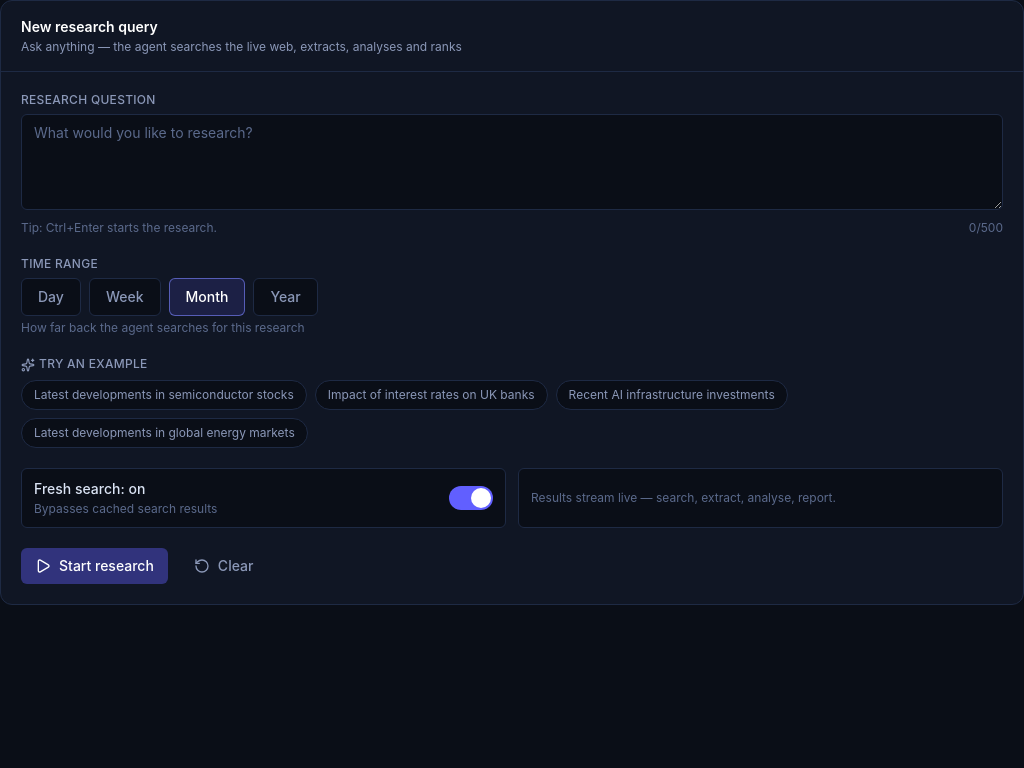
Test case: QueryResearchForm › prevents duplicate submissions while starting
Type "query one" into the text box with placeholder "What would you like to research?" at x=512, y=162, box [21,114,1003,210]
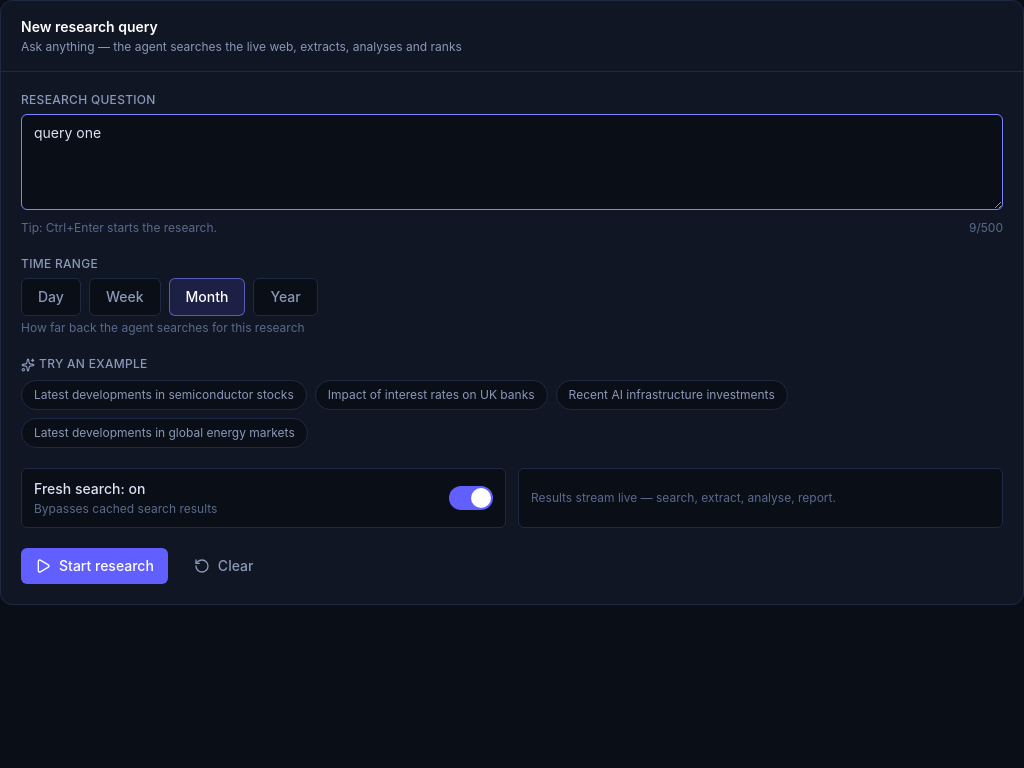
Click the button "Start research" at x=94, y=566, box [21,548,168,584]
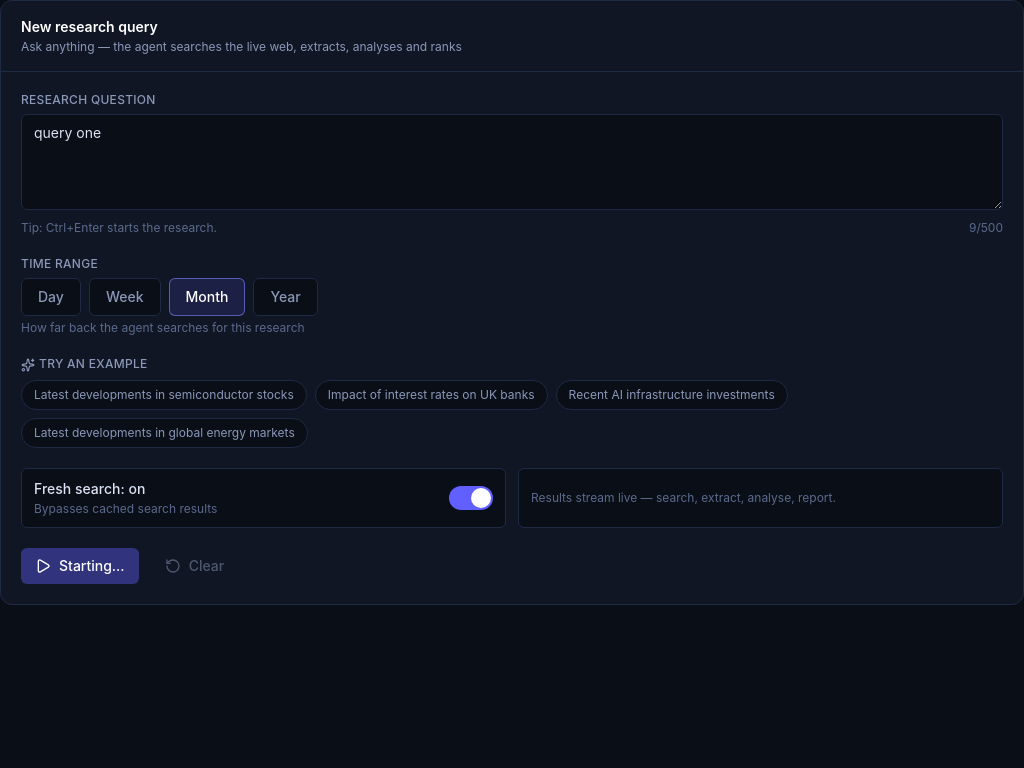
Click the button named "Start research" at x=80, y=566, box [21,548,139,584]
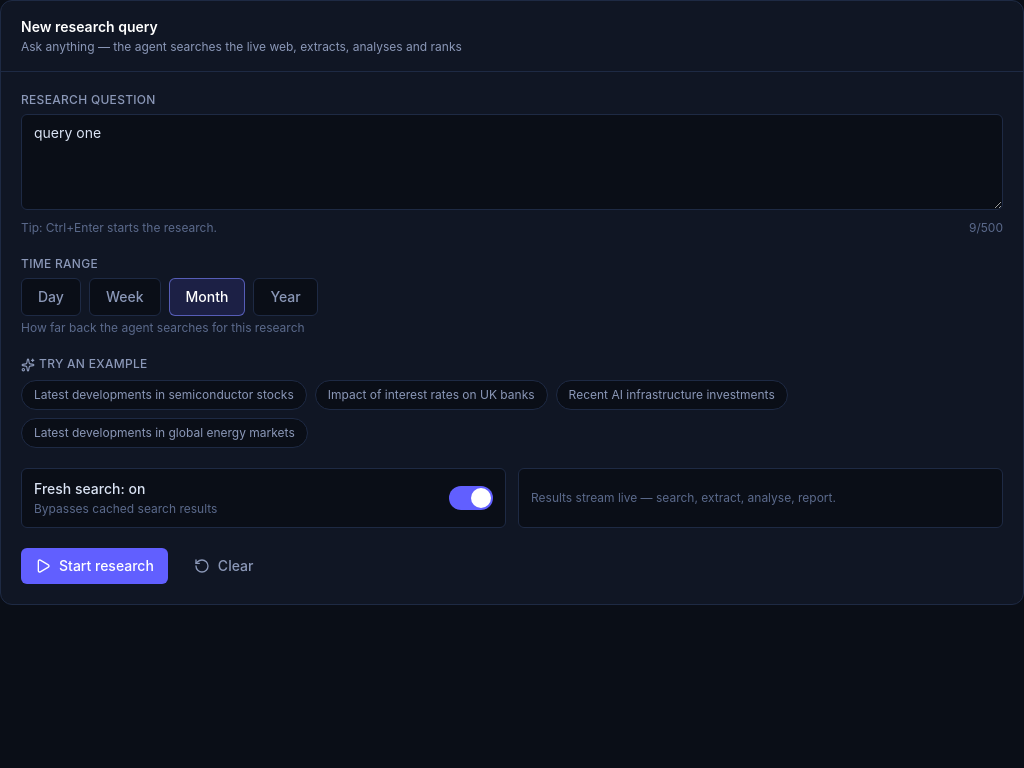
Expected: the button "Start research" is enabled, [21,548,168,584]
